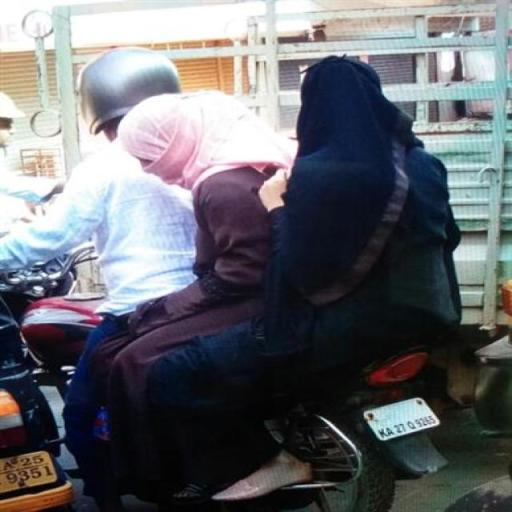tripple riding: (0, 43, 473, 381)
